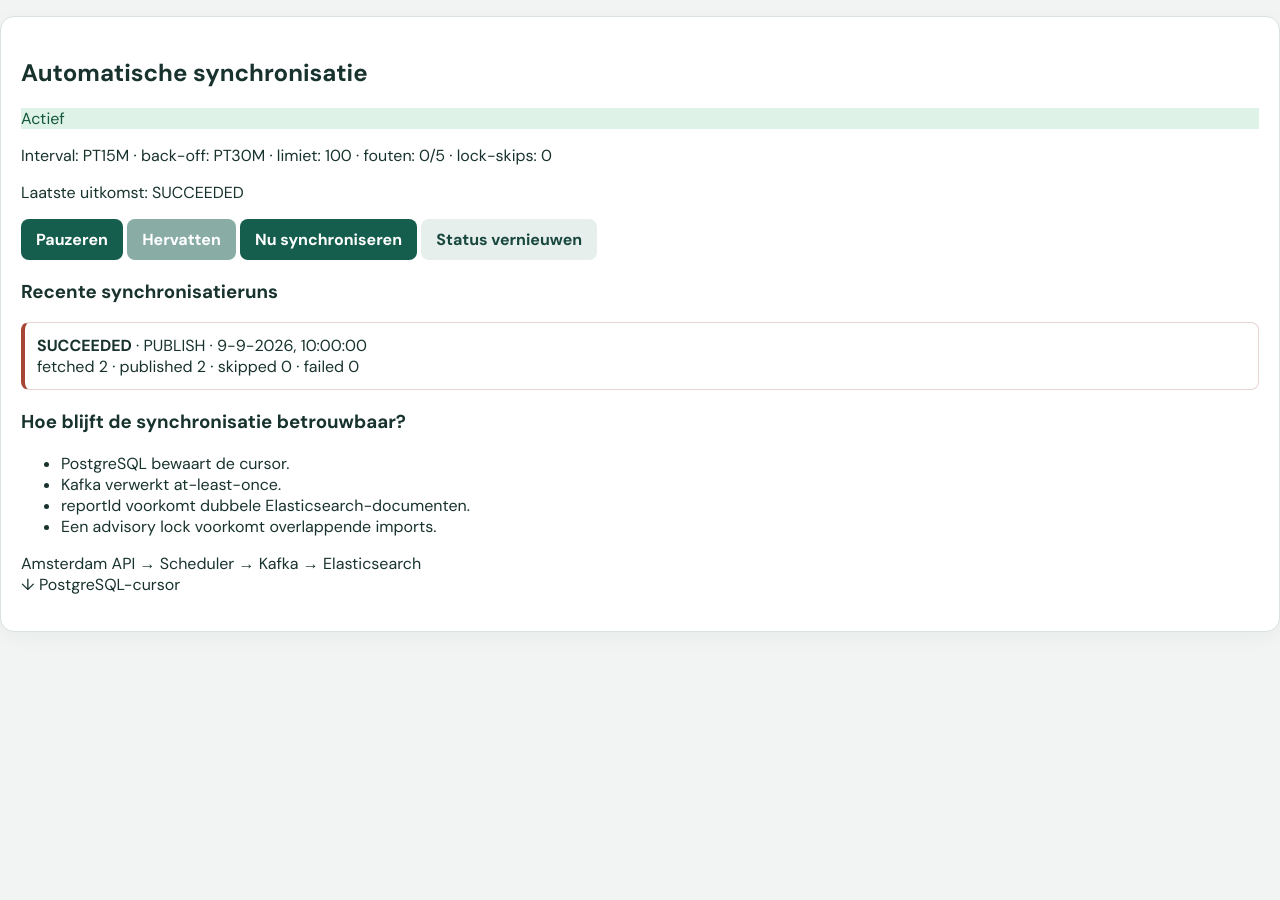
shows active status, runs and scheduler actions without duplicate submit
The image size is (1280, 900).
Expected: the text "Actief" is shown, top-left (21, 108), bottom-right (1259, 129)
Expected: the text "SUCCEEDED" is shown, top-left (37, 335), bottom-right (132, 356)
Click the button "Pauzeren". click: click(72, 239)
box: top-left (21, 219), bottom-right (123, 260)
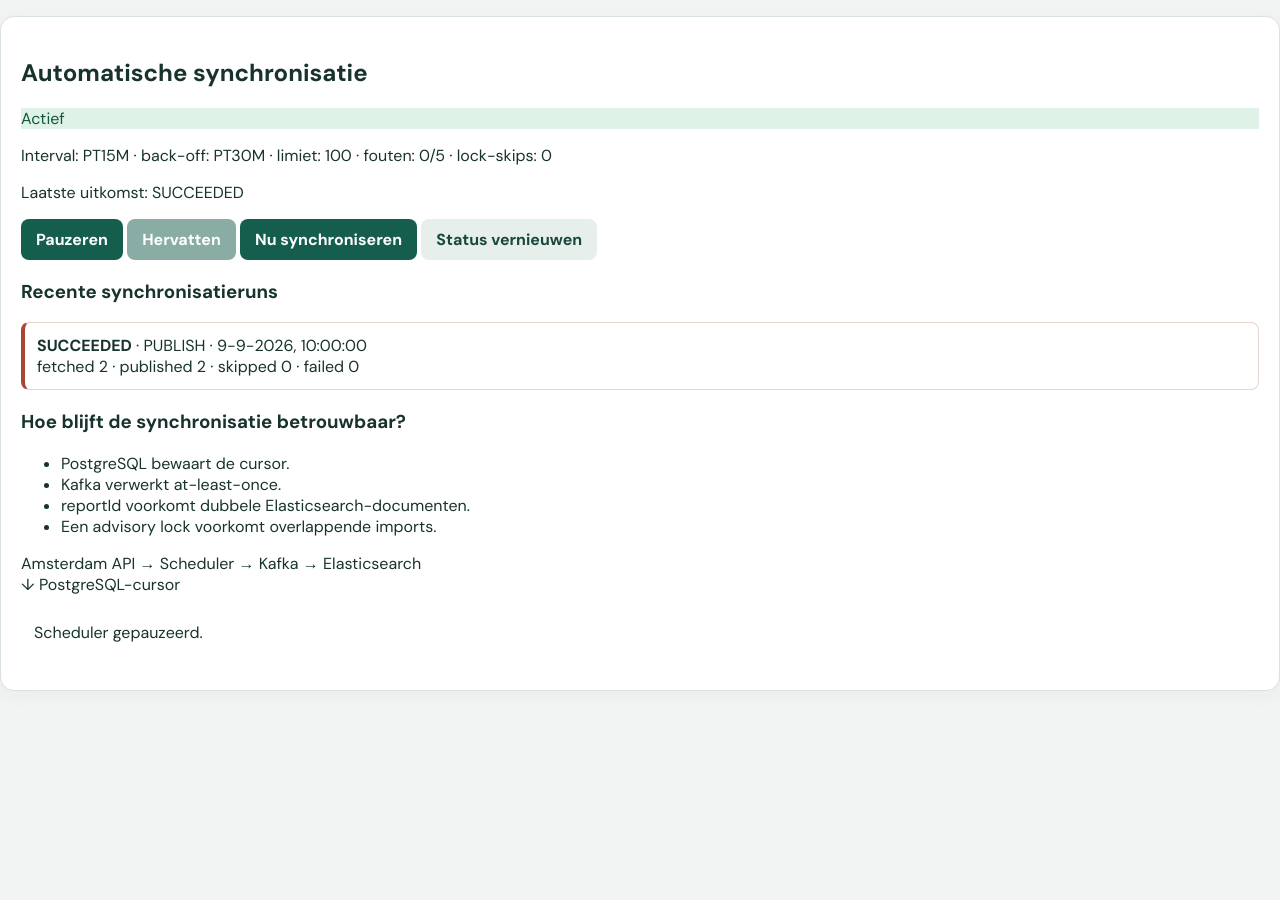
Now the text "Scheduler gepauzeerd." is shown, box top-left (34, 622), bottom-right (203, 643)
